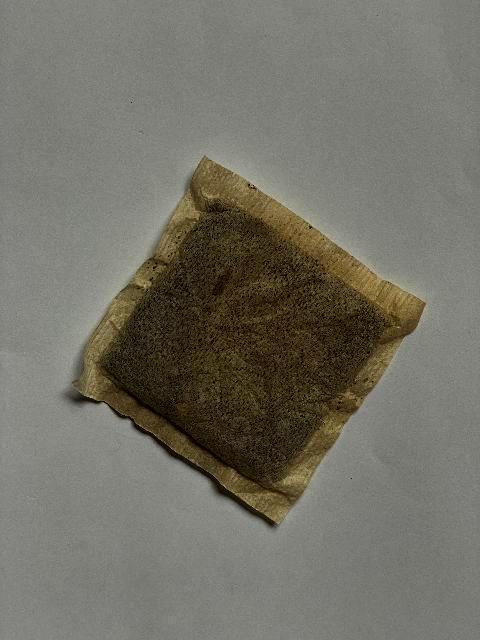teabag: (66, 151, 430, 531)
